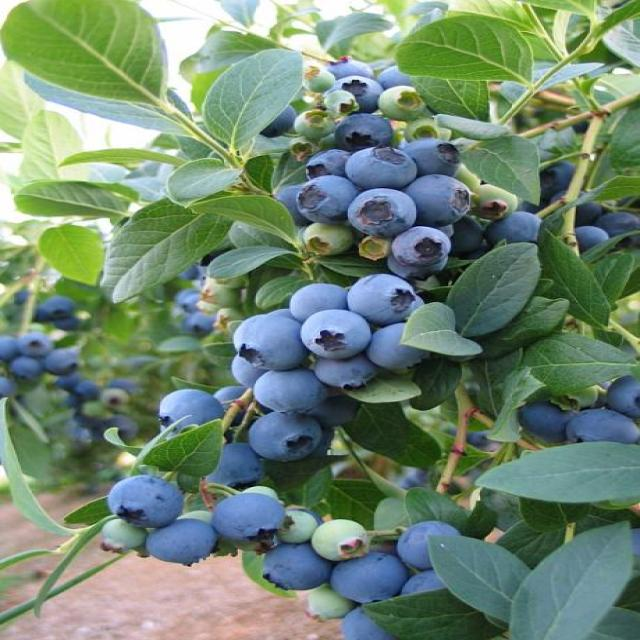BlueBerry - v1: (104, 469, 192, 533), (323, 550, 420, 608), (228, 312, 319, 372), (143, 510, 223, 574), (205, 486, 286, 548), (245, 404, 330, 463), (339, 268, 423, 327), (334, 141, 426, 191), (259, 538, 335, 598), (395, 516, 468, 574), (560, 402, 640, 454), (288, 170, 363, 225), (345, 183, 420, 238), (401, 172, 477, 225), (252, 366, 335, 414), (153, 384, 227, 434), (298, 310, 373, 358), (365, 318, 434, 370), (306, 350, 387, 394), (284, 280, 359, 327), (512, 391, 582, 440), (386, 223, 454, 272), (326, 108, 400, 150), (309, 515, 376, 561), (397, 136, 466, 180), (85, 515, 152, 560), (296, 218, 359, 264), (486, 206, 546, 254), (296, 584, 364, 626), (307, 386, 373, 428), (214, 349, 278, 392), (529, 156, 587, 202), (374, 81, 433, 126), (327, 604, 398, 640), (328, 72, 386, 114), (442, 218, 497, 262), (395, 108, 456, 147), (469, 179, 523, 223), (299, 144, 358, 183), (249, 102, 306, 142), (599, 362, 640, 417), (394, 567, 454, 603), (566, 224, 622, 260), (273, 506, 321, 548), (317, 51, 378, 84), (189, 280, 248, 312), (591, 206, 640, 240), (102, 416, 150, 450), (228, 478, 288, 505), (289, 107, 337, 140), (374, 64, 424, 94), (352, 232, 394, 267), (15, 328, 56, 361), (32, 292, 74, 324), (209, 379, 249, 411), (568, 199, 605, 231), (324, 88, 363, 118), (283, 134, 324, 161), (10, 356, 47, 384), (186, 311, 222, 339), (72, 376, 106, 405), (47, 350, 81, 378), (1, 330, 24, 364), (102, 388, 132, 413), (0, 372, 22, 406)
